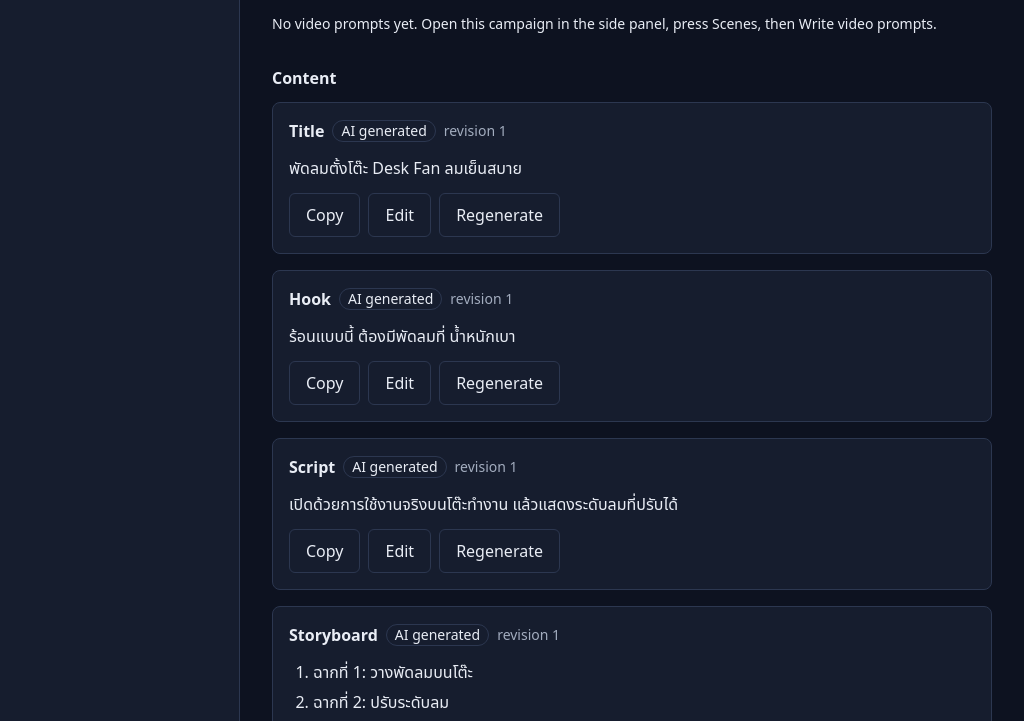
DraftPage: saving one section › sends only the changed section with the version on screen, then shows Saved
This screenshot has width=1024, height=721.
(page scrolled)
Click the button "Edit" below "ร้อนแบบนี้ ต้องมีพัดลมที่ น้ำหนักเบา".
click(400, 383)  # box top-left (368, 361), bottom-right (431, 405)
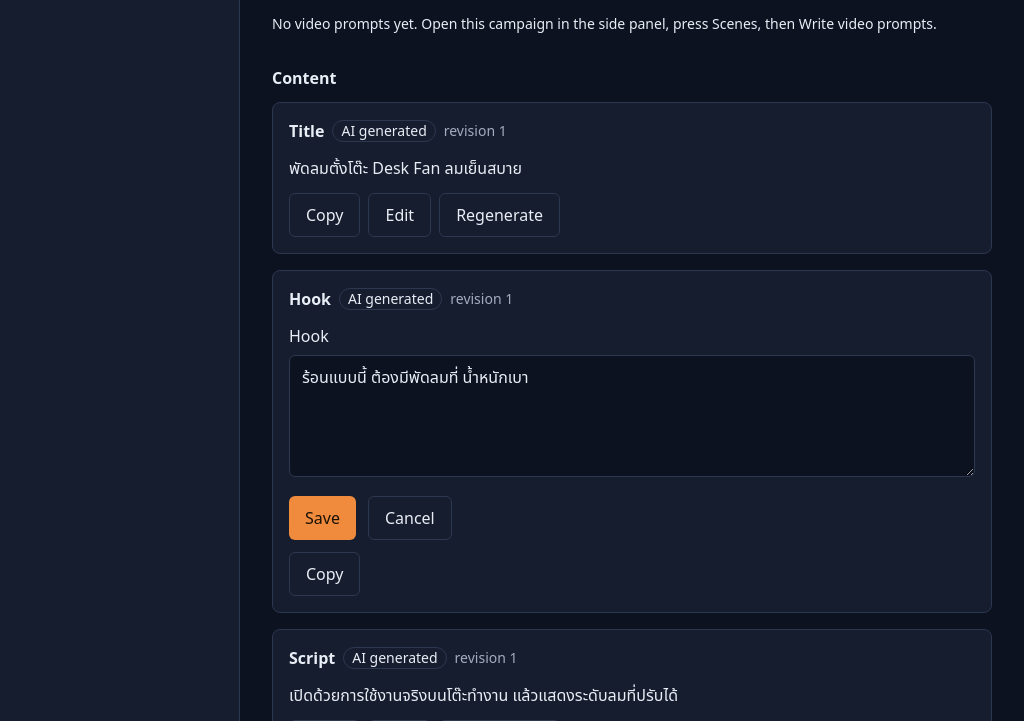
Replace the text in the text box labelled "Hook" with "ร้อนมาก ต้องมีพัดลมที่ น้ำหนักเบา" at (632, 416), box top-left (289, 355), bottom-right (975, 477)
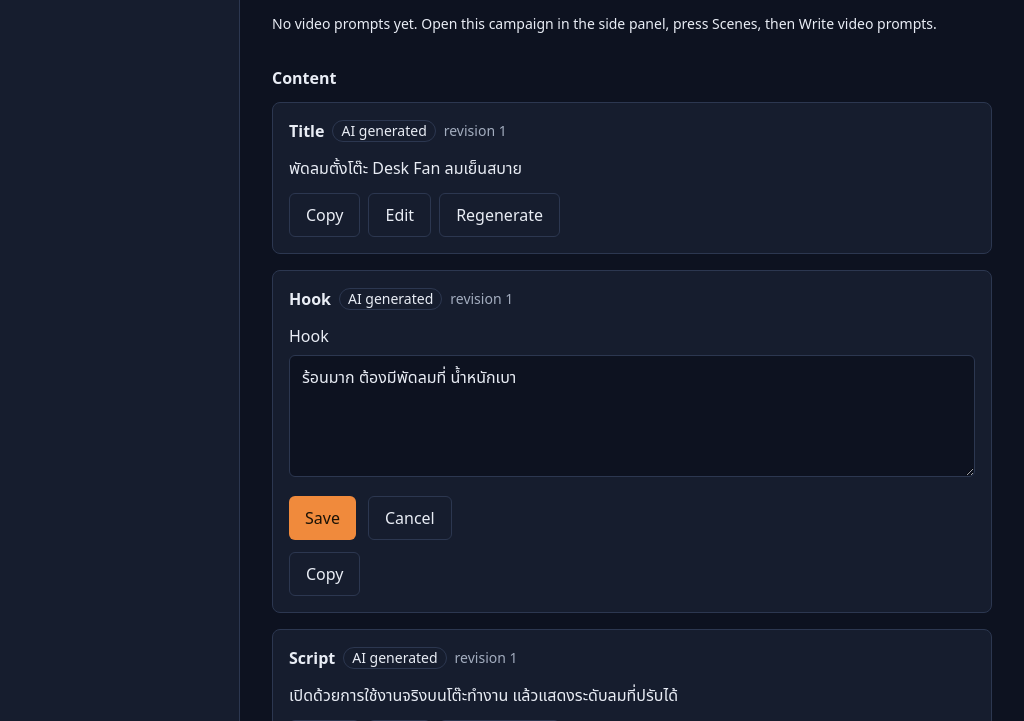
Click the button "Save".
click(322, 518)  # box top-left (289, 496), bottom-right (356, 540)
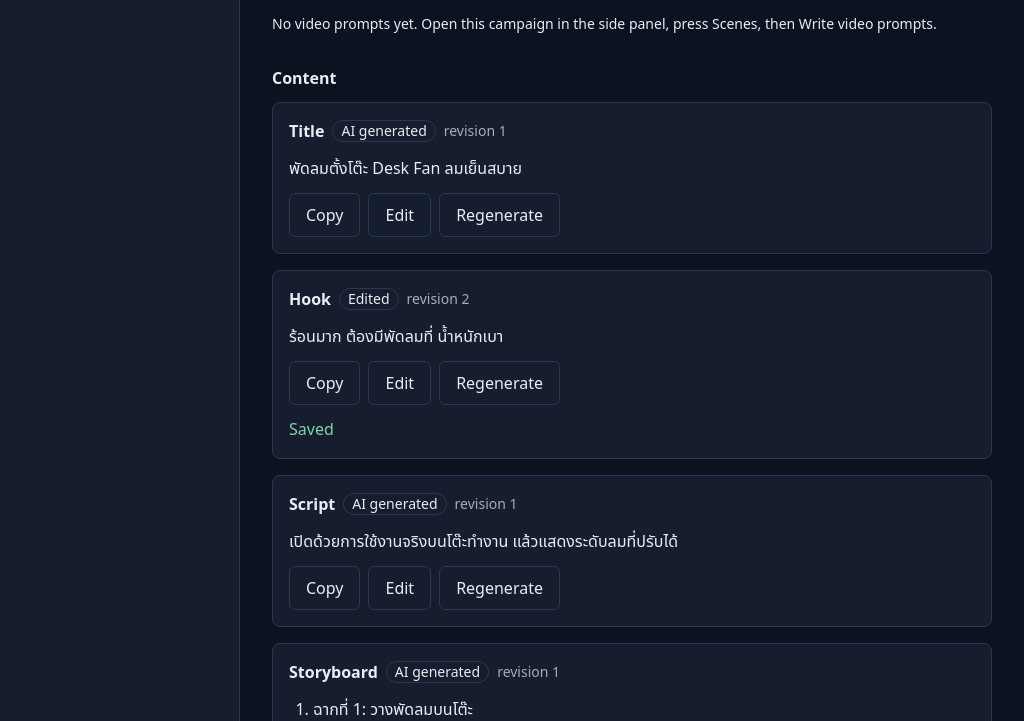
Expected: the message reads "Saved", top-left (289, 418), bottom-right (334, 440)
Expected: the text "ร้อนมาก ต้องมีพัดลมที่ น้ำหนักเบา" is shown, top-left (289, 325), bottom-right (503, 347)
